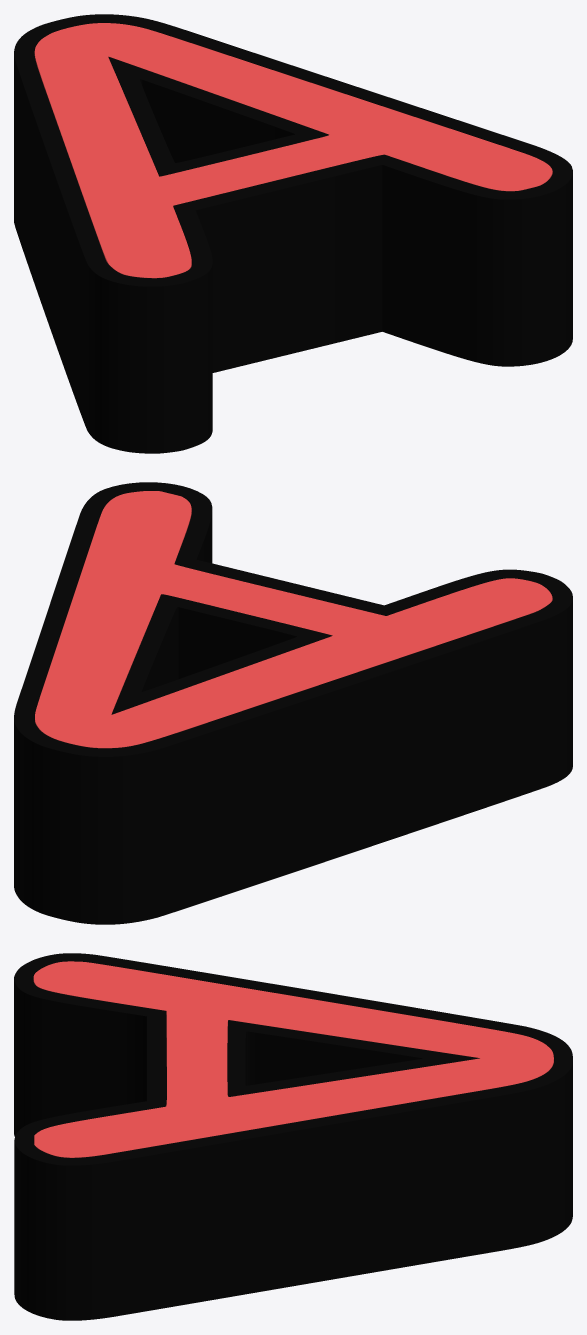
File: letterA.gltf
3 views of the same model, one above another, from view 1: azimuth 30°, elevation 25°; view 2: azimuth 150°, elevation 25°; view 3: azimuth 270°, elevation 25° (orthographic). The views are drawn at different scales.
Parts seen in each view (by area): view 1: path86, path88; view 2: path86, path88; view 3: path86, path88.
Part boxes in pixels (x1,y1,x2,y2): path86: (14,14,572,453); path88: (34,23,552,278); path86: (14,482,572,924); path88: (35,491,552,748); path86: (14,953,572,1320); path88: (33,961,553,1157).
Size of the model in its own units: 0.6393 by 0.2174 by 0.7105.
